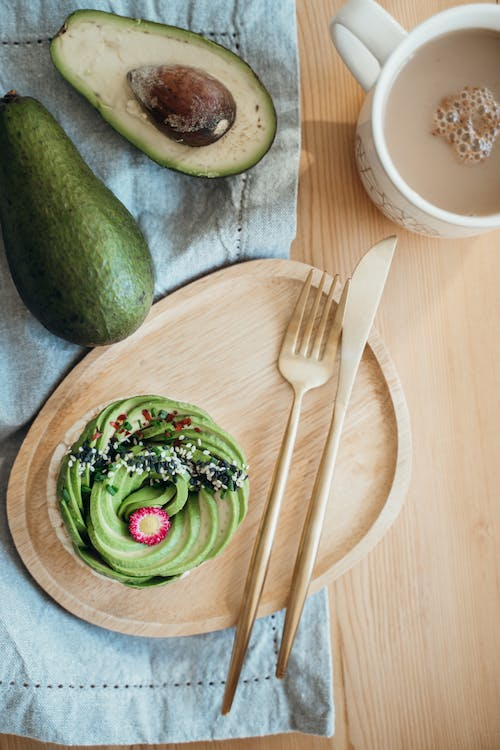knife: (272, 232, 406, 681)
